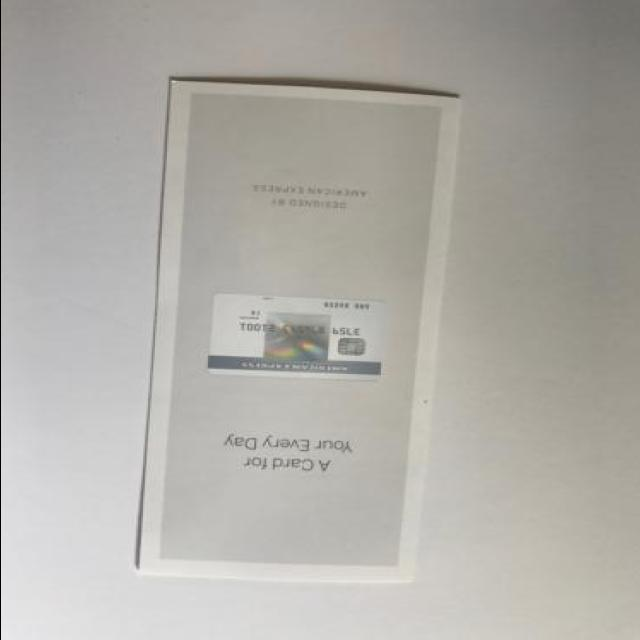kertas: (130, 77, 463, 585)
